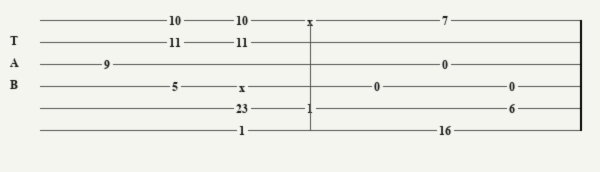0: (374, 80, 384, 93), (442, 58, 452, 71), (509, 80, 519, 93)
1: (239, 124, 249, 137), (307, 102, 317, 115)
10: (169, 14, 185, 27), (236, 14, 252, 27)
11: (169, 36, 185, 49), (236, 36, 252, 49)
16: (439, 124, 455, 137)
23: (236, 102, 252, 115)
5: (172, 80, 182, 93)
6: (509, 102, 519, 115)
7: (442, 14, 452, 27)
9: (104, 58, 114, 71)
x: (239, 81, 249, 91), (307, 15, 317, 25)
